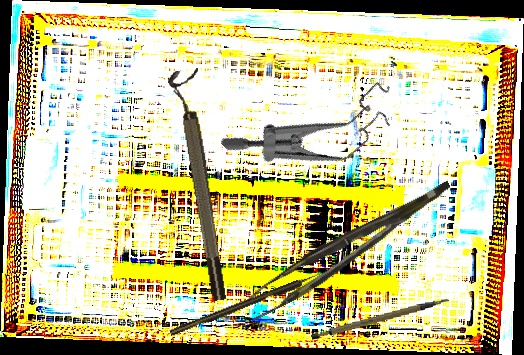Fixation Ring: (166, 67, 231, 304)
Hook Surgical: (168, 271, 324, 337)
Scalpel Handle: (308, 297, 453, 343)
Speculum: (218, 33, 411, 219)
Tissue Forceps: (236, 180, 465, 322)
